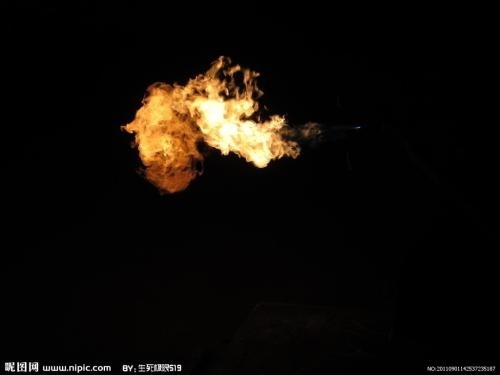fire: (126, 56, 305, 183)
